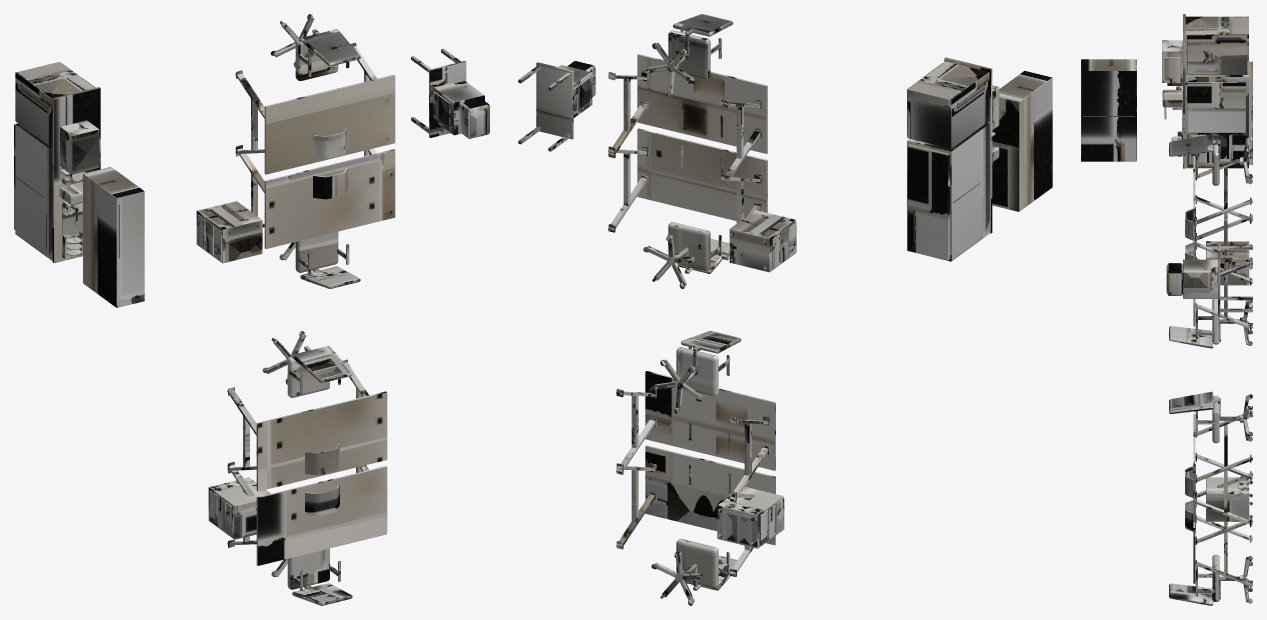
The model's file is office_east.obj.
3 views of the same model, side by side, from view 1: azimuth 30°, elevation 25°; view 2: azimuth 150°, elevation 25°; view 3: azimuth 270°, elevation 25° (orthographic). The views are drawn at different scales.
Visible parts, largest first — view 1: BAKE_east; view 2: BAKE_east; view 3: BAKE_east.
Boxes of the visible parts, left/top/right/bottom form: BAKE_east: left=14, top=14, right=489, bottom=605; BAKE_east: left=518, top=14, right=1052, bottom=605; BAKE_east: left=1081, top=14, right=1252, bottom=605.
Bounding box in the file's own units: 5.36 × 6.76 × 2.22.
Materials: 1 (1 with a texture image).
